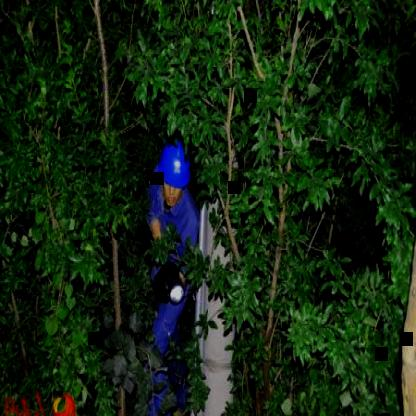helmet: (156, 138, 192, 210)
